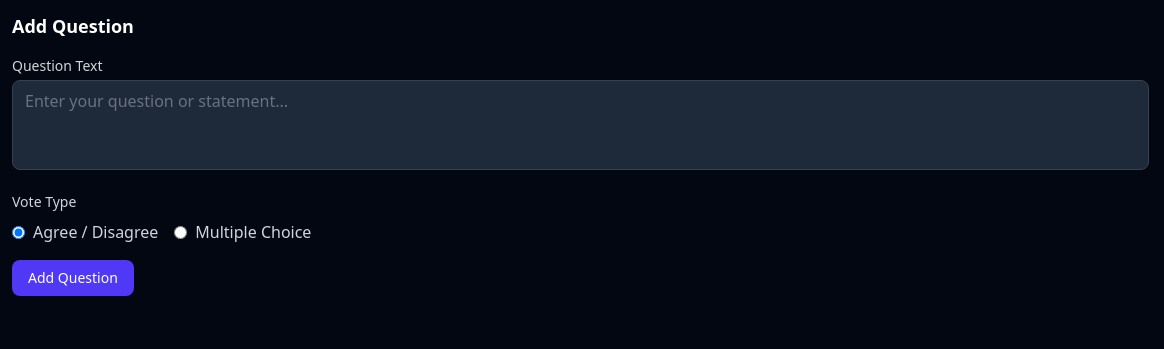
Test: QuestionForm › shows error when submitting empty question
Click the button "Add Question" at (73, 278), box [12,260,134,296]
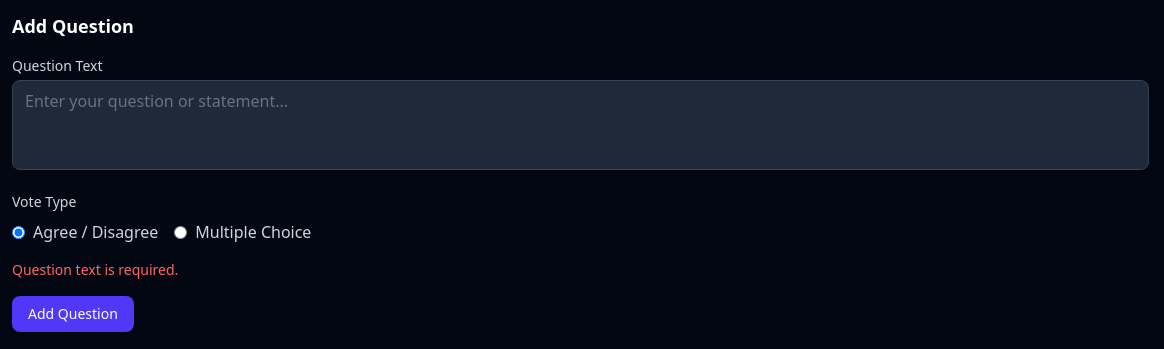
Expected: the text "Question text is required." is shown, [12,260,178,279]
